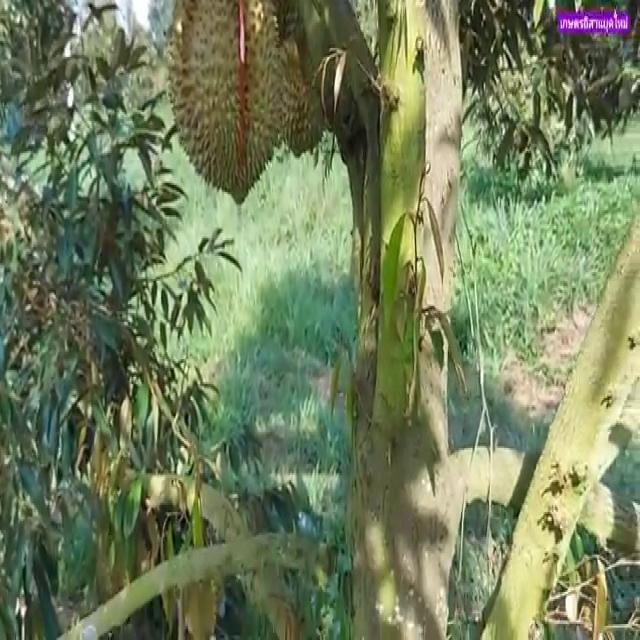durian: (163, 0, 287, 210), (261, 28, 331, 161)
